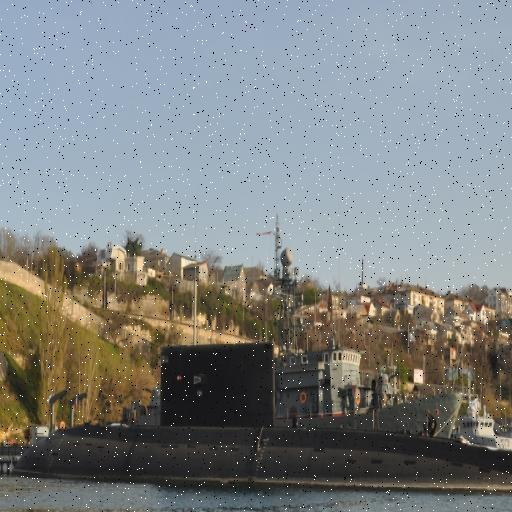submarine: (12, 343, 512, 491)
